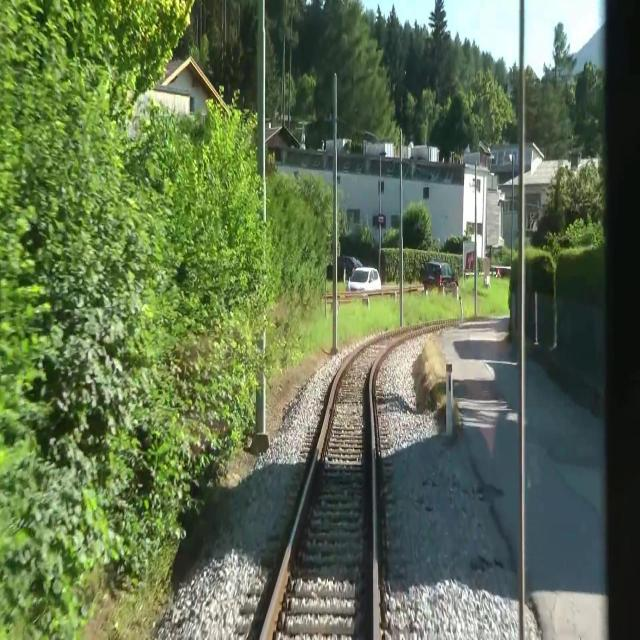rail-track: (264, 328, 413, 639)
